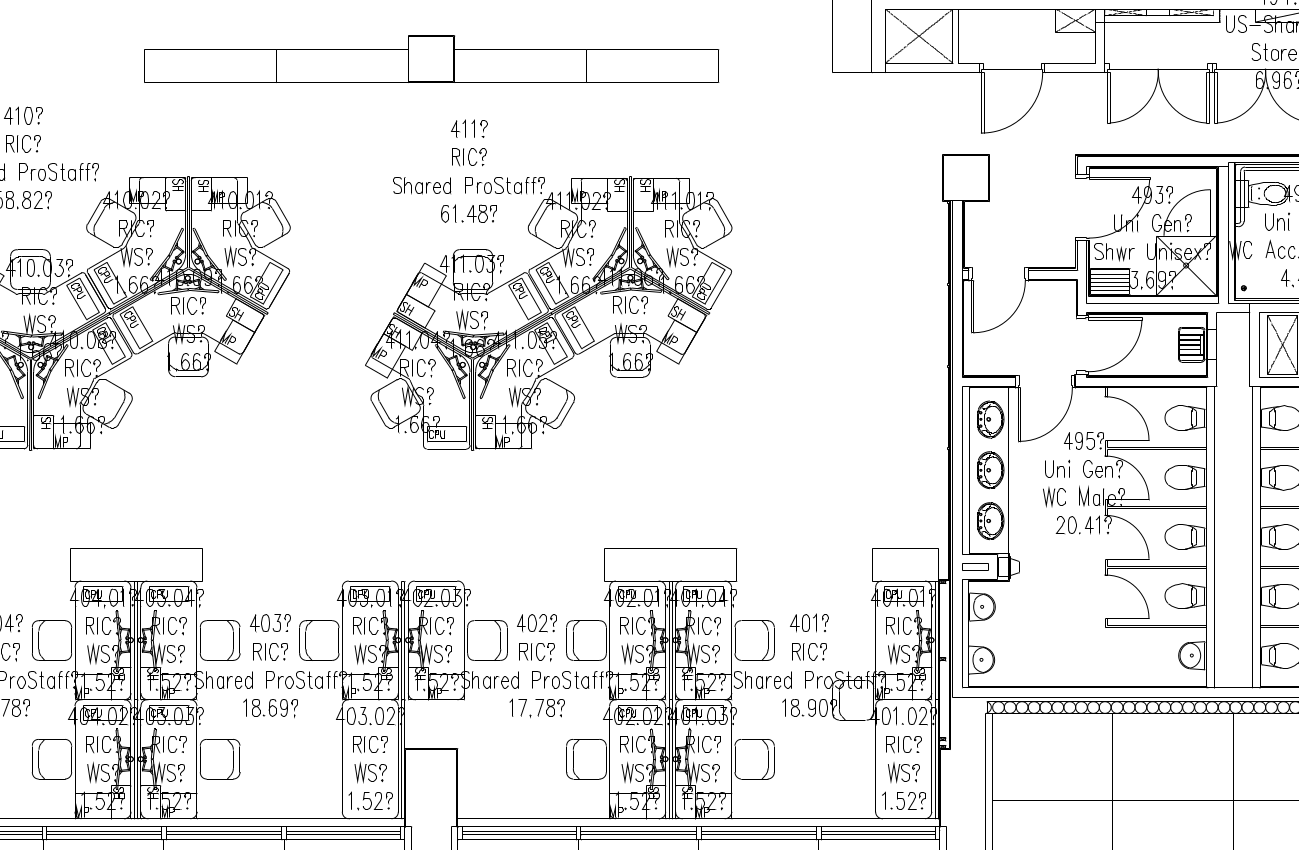door: (1103, 70, 1213, 136), (1213, 69, 1299, 136), (978, 64, 1051, 137), (1013, 387, 1073, 449), (968, 279, 1028, 341), (1086, 315, 1146, 377), (1107, 392, 1152, 441), (1107, 452, 1152, 501), (1106, 510, 1151, 559), (1106, 570, 1151, 619)
